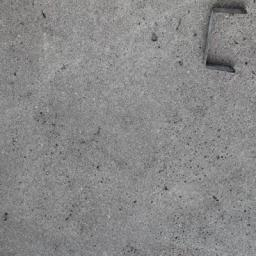FOD: (204, 4, 248, 80)
